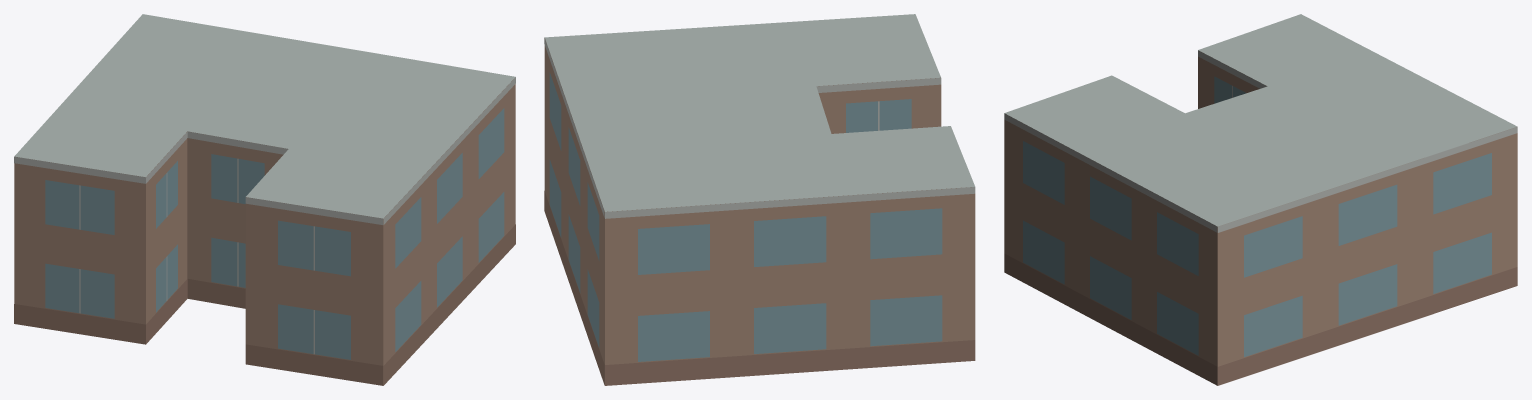
File: survey-upis-32914435.glb
3 renders of one model, left to right at view 1: azimuth 30°, elevation 25°; view 2: azimuth 150°, elevation 25°; view 3: azimuth 270°, elevation 25°, orthographic. The views are drawn at different scales.
Parts seen in each view (by area): view 1: survey-upis-32914435.tmp; view 2: survey-upis-32914435.tmp; view 3: survey-upis-32914435.tmp.
Part boxes in pixels (box(x1,y1,x2,y2)): survey-upis-32914435.tmp: box(14, 14, 515, 385); survey-upis-32914435.tmp: box(544, 14, 975, 385); survey-upis-32914435.tmp: box(1004, 14, 1517, 385).
Size of the model in its own units: 17.48 by 6.1 by 17.83.
